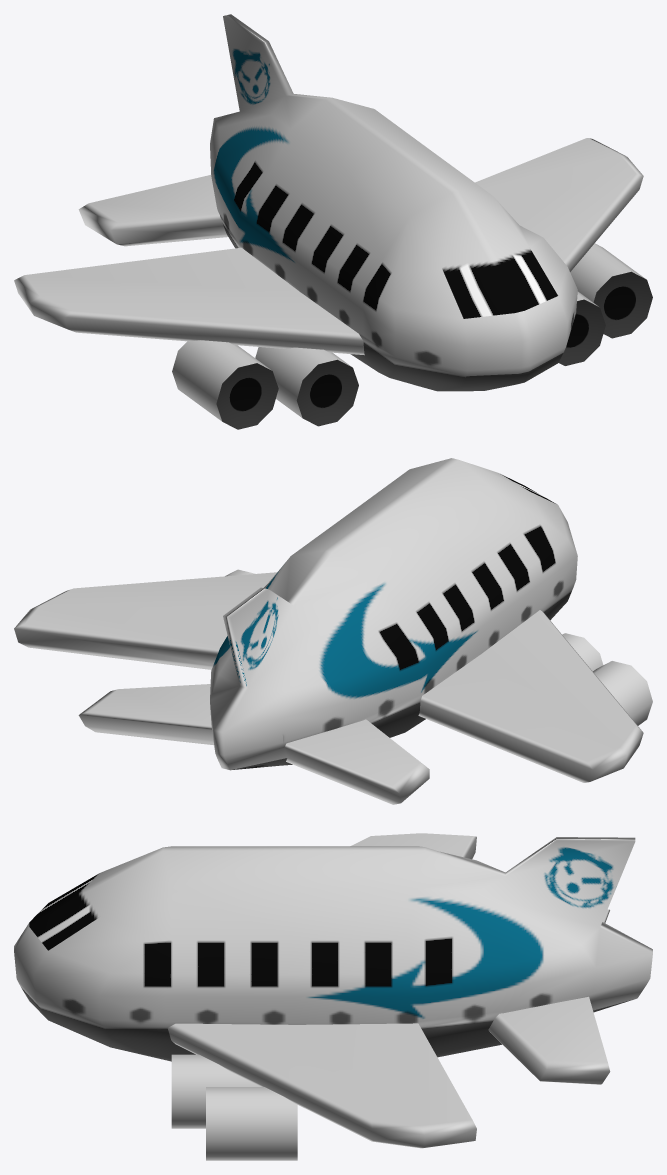
The model's file is airplane.fbx.
3 renders of one model, top to bottom at view 1: azimuth 30°, elevation 25°; view 2: azimuth 150°, elevation 25°; view 3: azimuth 270°, elevation 25°, orthographic. The views are drawn at different scales.
Parts seen in each view (by area): view 1: pCube3, pCylinder4, pCylinder3, pCylinder2, pCylinder1; view 2: pCube3, pCylinder4, pCylinder3; view 3: pCube3, pCylinder2, pCylinder1.
Boxes of the visible parts, left/top/right/bottom form: pCube3: left=14, top=14, right=643, bottom=391; pCylinder4: left=172, top=340, right=278, bottom=429; pCylinder3: left=255, top=347, right=358, bottom=426; pCylinder2: left=570, top=243, right=652, bottom=338; pCylinder1: left=558, top=291, right=605, bottom=365; pCube3: left=14, top=458, right=643, bottom=804; pCylinder4: left=593, top=661, right=652, bottom=725; pCylinder3: left=562, top=633, right=603, bottom=671; pCube3: left=14, top=833, right=652, bottom=1148; pCylinder2: left=206, top=1087, right=297, bottom=1160; pCylinder1: left=171, top=1054, right=260, bottom=1128.
Size of the model in its own units: 13.06 by 4.5 by 11.71.
Materials: 1 (1 with a texture image).
